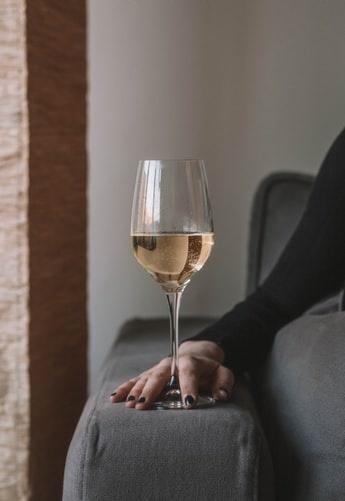whiskey: (130, 152, 215, 417)
